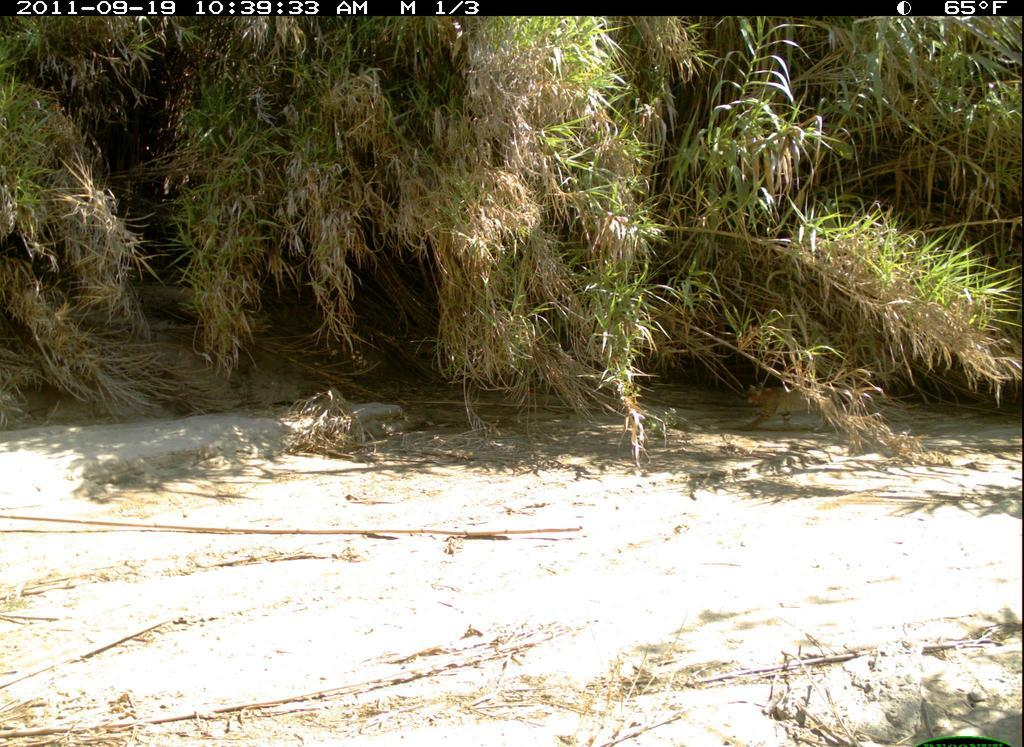bobcat: (725, 372, 895, 450)
